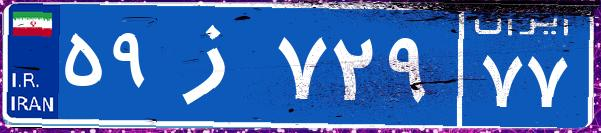2: (330, 28, 385, 110)
5: (57, 26, 110, 107)
7: (273, 28, 330, 110), (475, 38, 525, 113), (525, 38, 570, 115)
9: (385, 28, 445, 110), (110, 28, 158, 105)
ز: (158, 15, 273, 115)
